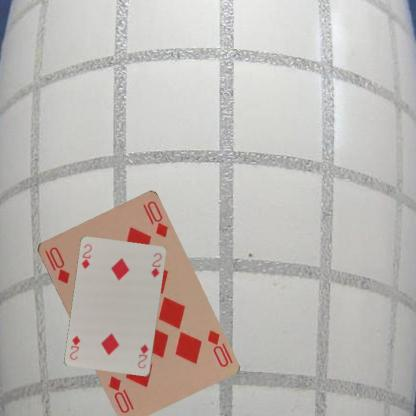10d: (204, 326, 234, 368), (42, 244, 71, 285)
2d: (135, 341, 150, 370), (79, 242, 93, 271)
